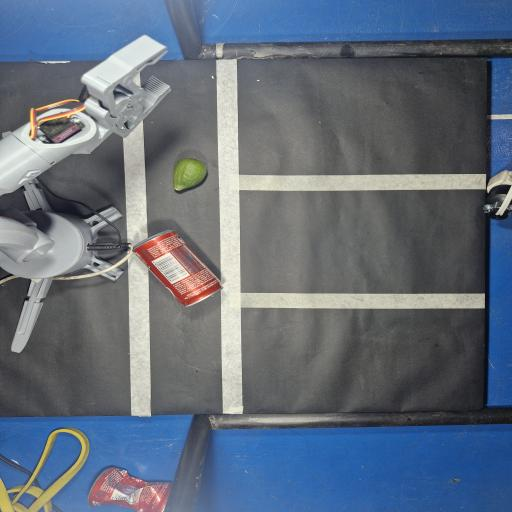higo: (174, 158, 207, 191)
lata: (134, 230, 222, 306)
